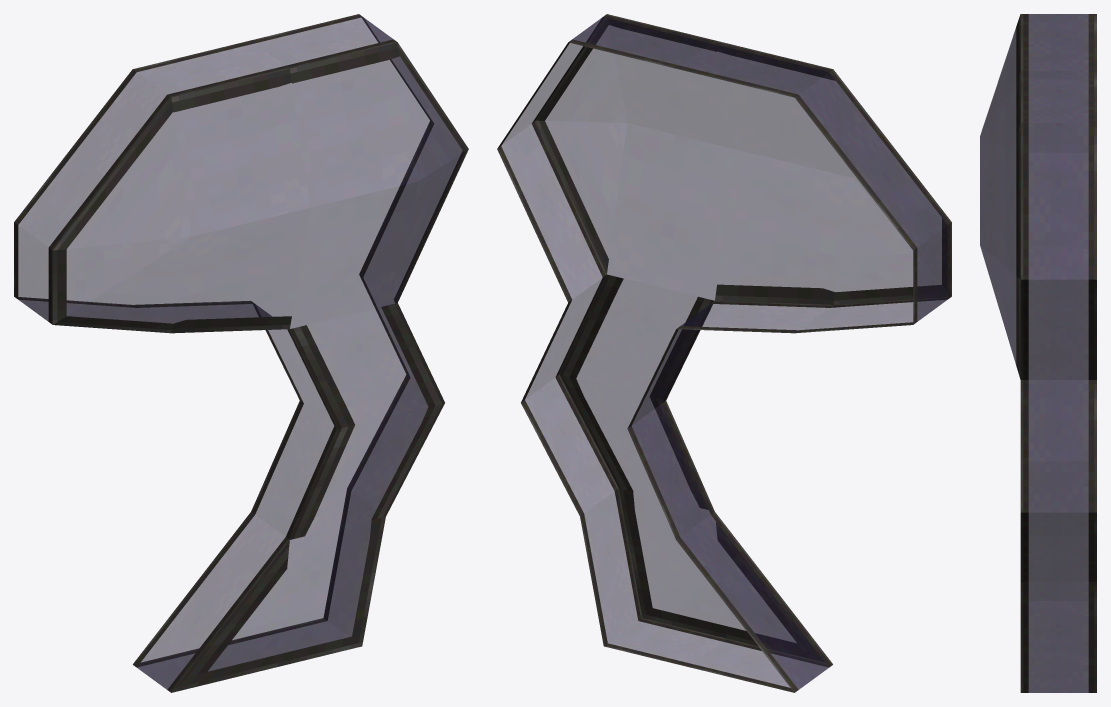
3 views of the same model, side by side, from view 1: azimuth 30°, elevation 25°; view 2: azimuth 150°, elevation 25°; view 3: azimuth 270°, elevation 25° (orthographic).
Parts seen in each view (by area): view 1: Joke_obj_077; view 2: Joke_obj_077; view 3: Joke_obj_077.
Part boxes in pixels (x1,y1,x2,y2): Joke_obj_077: (14,14,468,692); Joke_obj_077: (497,14,951,692); Joke_obj_077: (980,14,1096,692).
Bounding box in the file's own units: 0.6172 × 0.8438 × 0.1523.
1 material, 1 textured.
